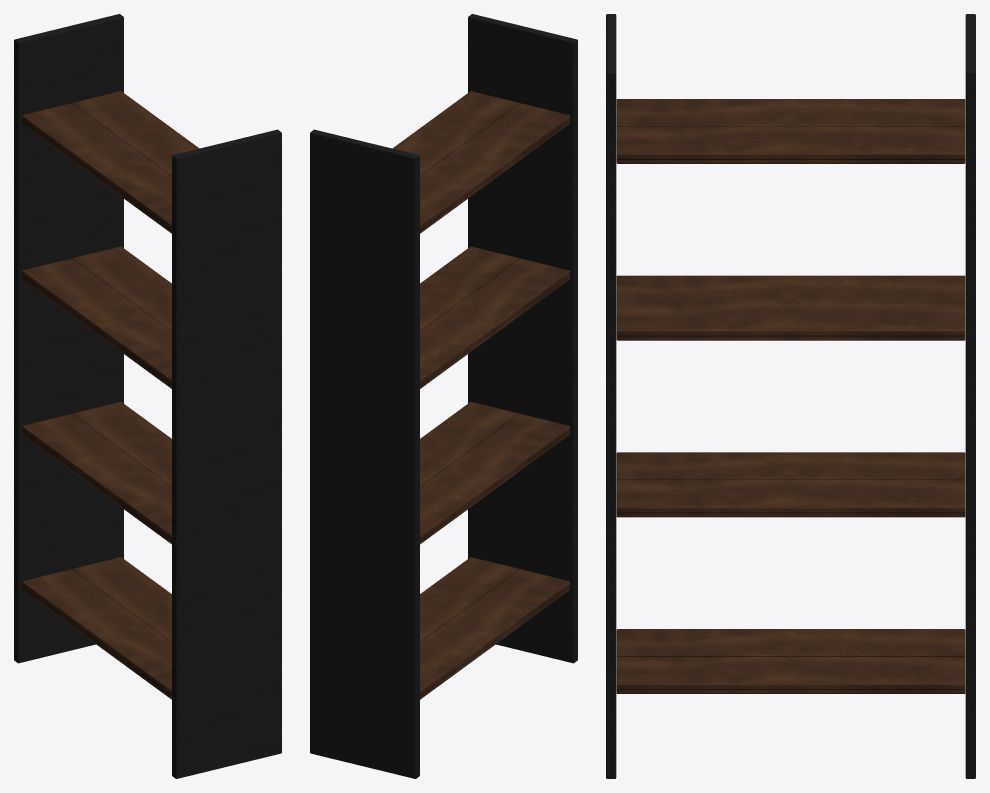
Rendered from robe_shelving.glb.
3 renders of one model, left to right at view 1: azimuth 30°, elevation 25°; view 2: azimuth 150°, elevation 25°; view 3: azimuth 270°, elevation 25°, orthographic. The views are drawn at different scales.
Parts seen in each view (by area): view 1: robe_shelving; view 2: robe_shelving; view 3: robe_shelving.
Boxes of the visible parts, left/top/right/bottom form: robe_shelving: left=14, top=14, right=281, bottom=778; robe_shelving: left=310, top=14, right=577, bottom=778; robe_shelving: left=606, top=14, right=975, bottom=778.
Size of the model in its own units: 0.34 by 1.9 by 0.901.
2 materials, 2 textured.
